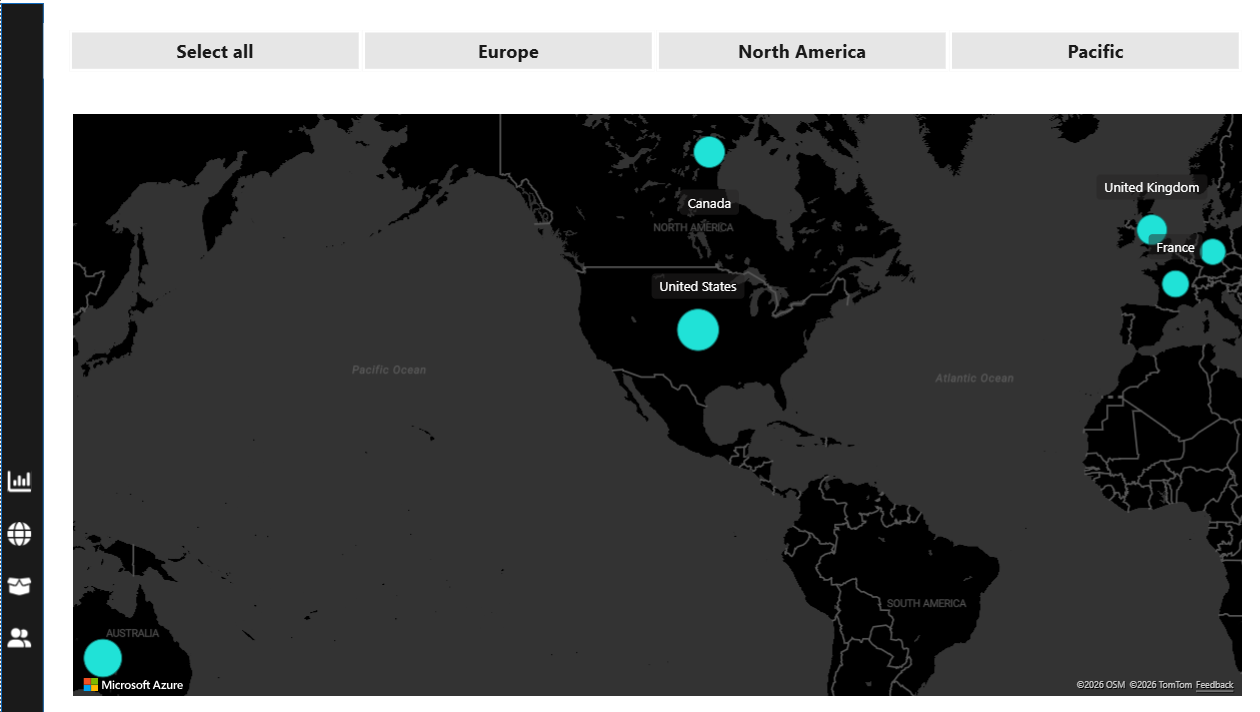

What the dashboard file says about the page in this screenshot:
{"tool":"powerbi","page":{"name":"Map","canvas":[1280,720],"ordinal":1},"visuals":[{"type":"shape","box":[0,0,43.3,752.2],"z":0},{"type":"azureMap","fields":{"Category":["Territory Lookup.Country"],"Size":["Measure Table.Total Orders"]},"box":[67.8,107.8,1194.4,598.9],"z":1000},{"type":"slicer","fields":{"Values":["Territory Lookup.Continent"]},"box":[43.2,20.2,1237,56],"z":2000},{"type":"actionButton","box":[2.8,461.9,32.1,45],"z":3000},{"type":"actionButton","box":[2.8,567.9,32.1,45],"z":4000},{"type":"actionButton","box":[2.8,620.8,32.1,45],"z":5000},{"type":"actionButton","box":[2.8,514.9,32.1,45],"z":6000}]}

Visuals, with their boxes on the page's 1280x720 design canvas (x1, y1, x2, y2). These are canvas units, not pixel positions in the 1260x712 screenshot, which may show the page scaled, cropped or inside an application window:
shape: {"x1": 0, "y1": 0, "x2": 43, "y2": 752}
azureMap - Territory Lookup.Country x Measure Table.Total Orders: {"x1": 68, "y1": 108, "x2": 1262, "y2": 707}
slicer - Territory Lookup.Continent: {"x1": 43, "y1": 20, "x2": 1280, "y2": 76}
actionButton: {"x1": 3, "y1": 462, "x2": 35, "y2": 507}
actionButton: {"x1": 3, "y1": 568, "x2": 35, "y2": 613}
actionButton: {"x1": 3, "y1": 621, "x2": 35, "y2": 666}
actionButton: {"x1": 3, "y1": 515, "x2": 35, "y2": 560}
